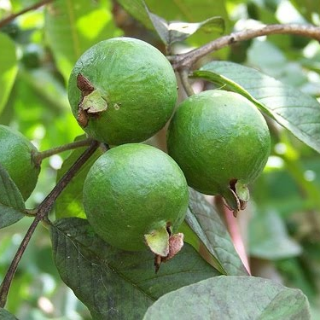oi: (84, 144, 188, 262), (70, 37, 176, 143), (170, 90, 272, 200)
